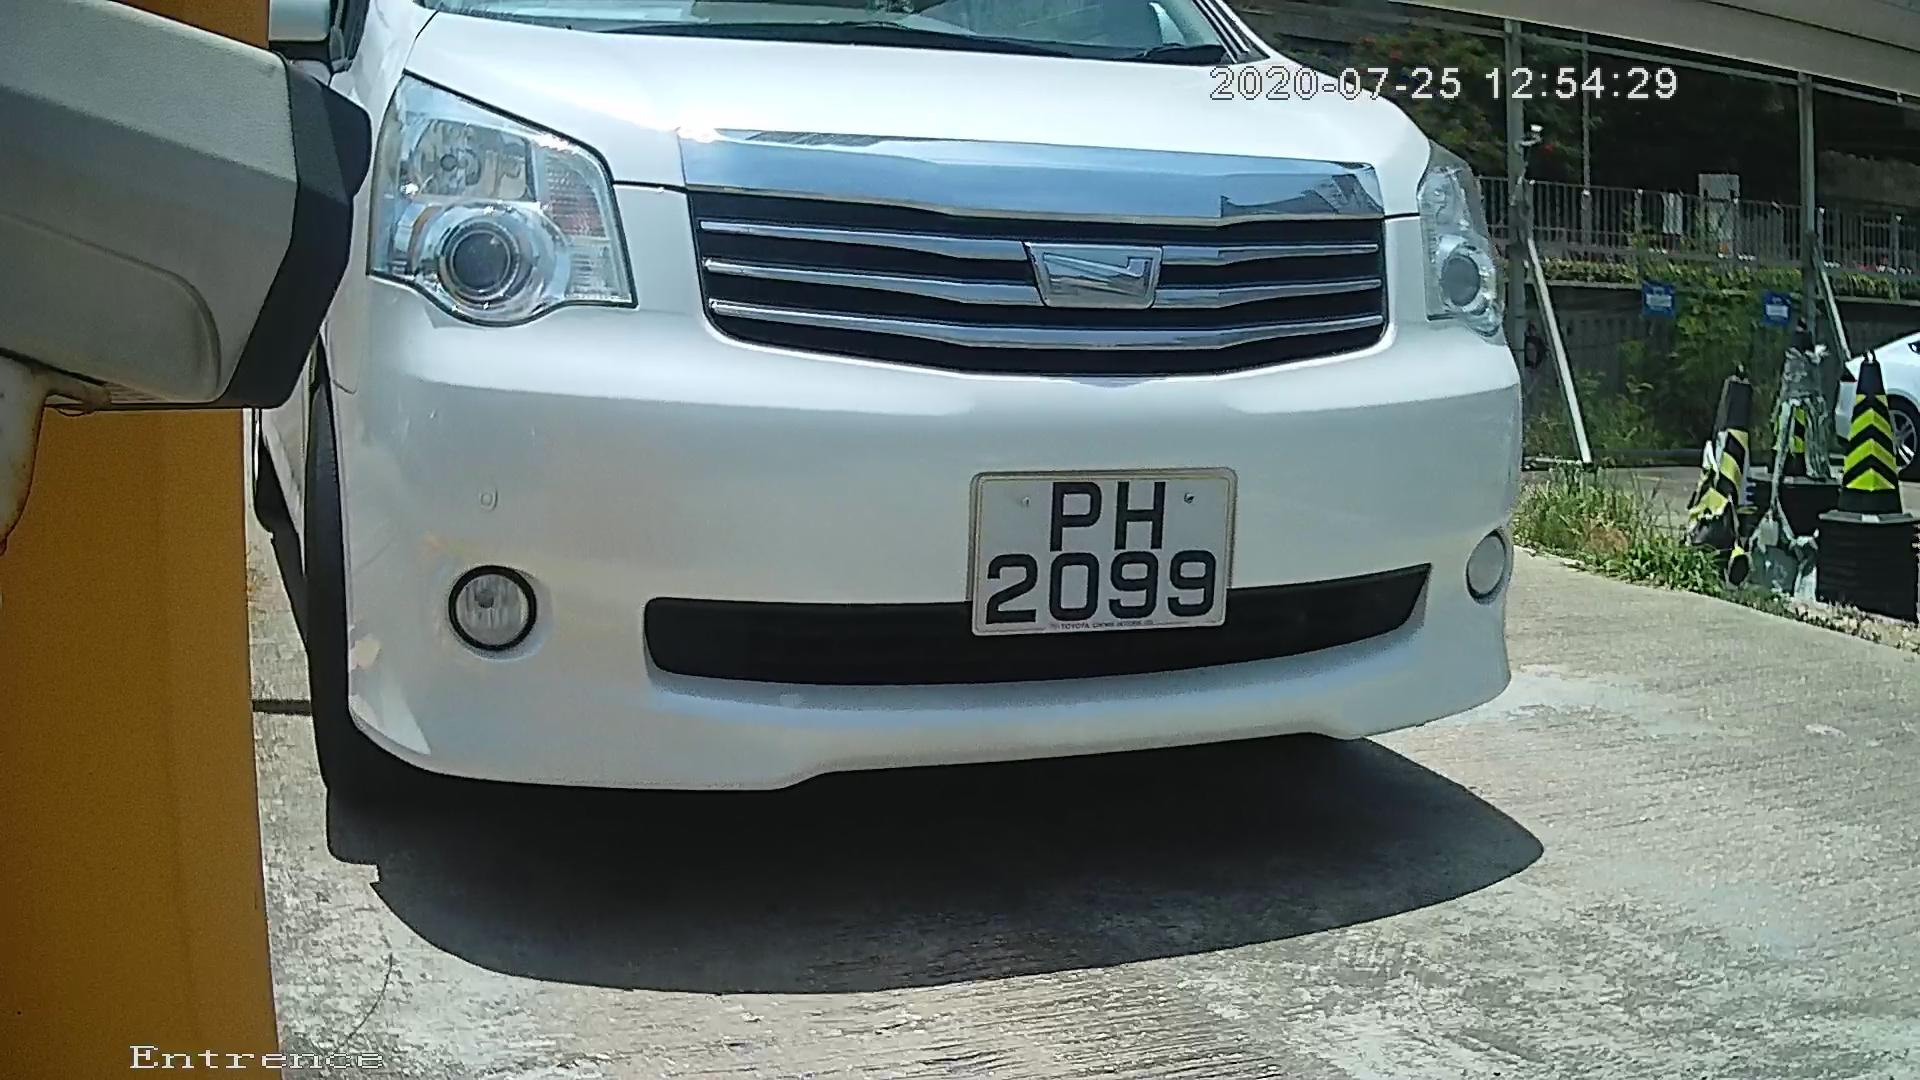Car: (112, 5, 1629, 883)
License Plate: (943, 444, 1261, 661)
